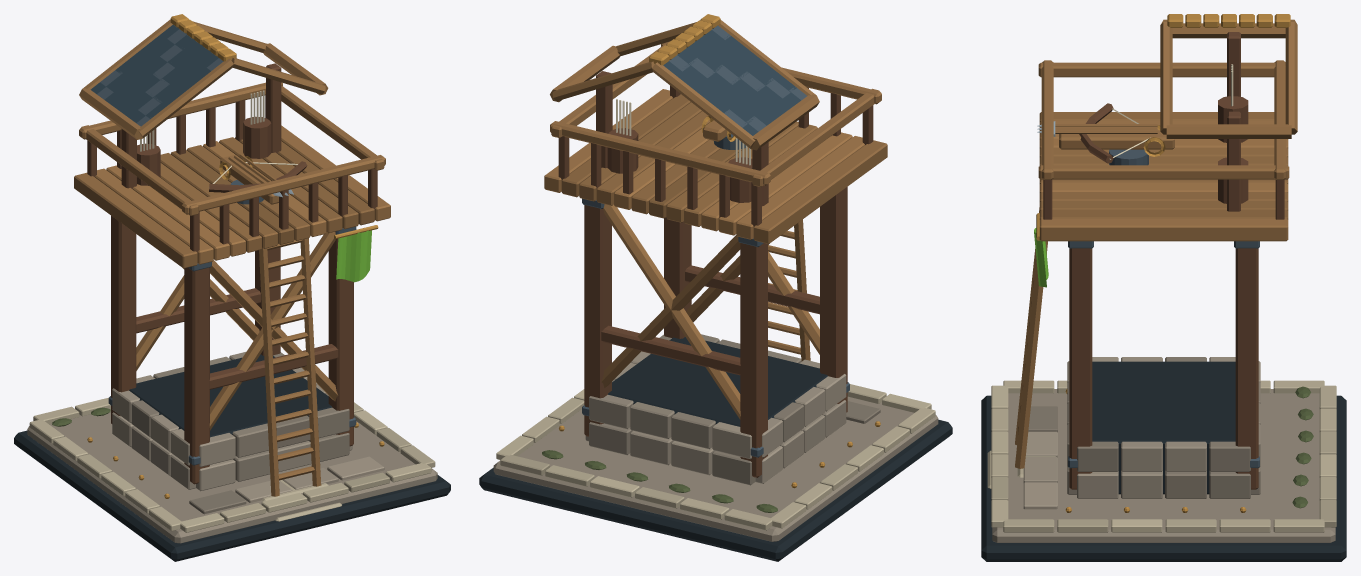
File: archer__patrulheira__L10.glb
3 renders of one model, left to right at view 1: azimuth 30°, elevation 25°; view 2: azimuth 150°, elevation 25°; view 3: azimuth 270°, elevation 25°, orthographic. The views are drawn at different scales.
Parts seen in each view (by area): view 1: structure, weapon, banners; view 2: structure, weapon; view 3: structure, weapon, banners.
Part boxes in pixels (<box>): structure: <box>14,14,450,561</box>; weapon: <box>209,154,307,204</box>; banners: <box>334,225,378,282</box>; structure: <box>479,14,952,561</box>; weapon: <box>701,116,745,149</box>; structure: <box>981,14,1346,561</box>; weapon: <box>1037,103,1174,165</box>; banners: <box>1034,213,1048,287</box>.
Bounding box in the file's own units: 0.803 × 1.14 × 0.803.
